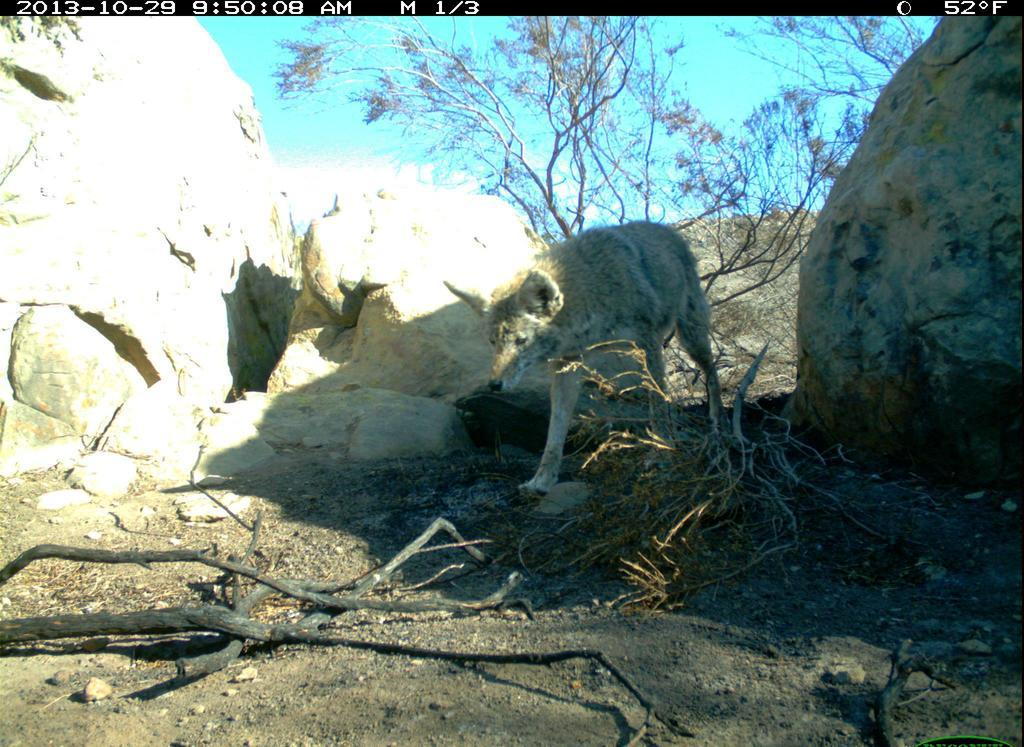coyote: (442, 212, 742, 507)
